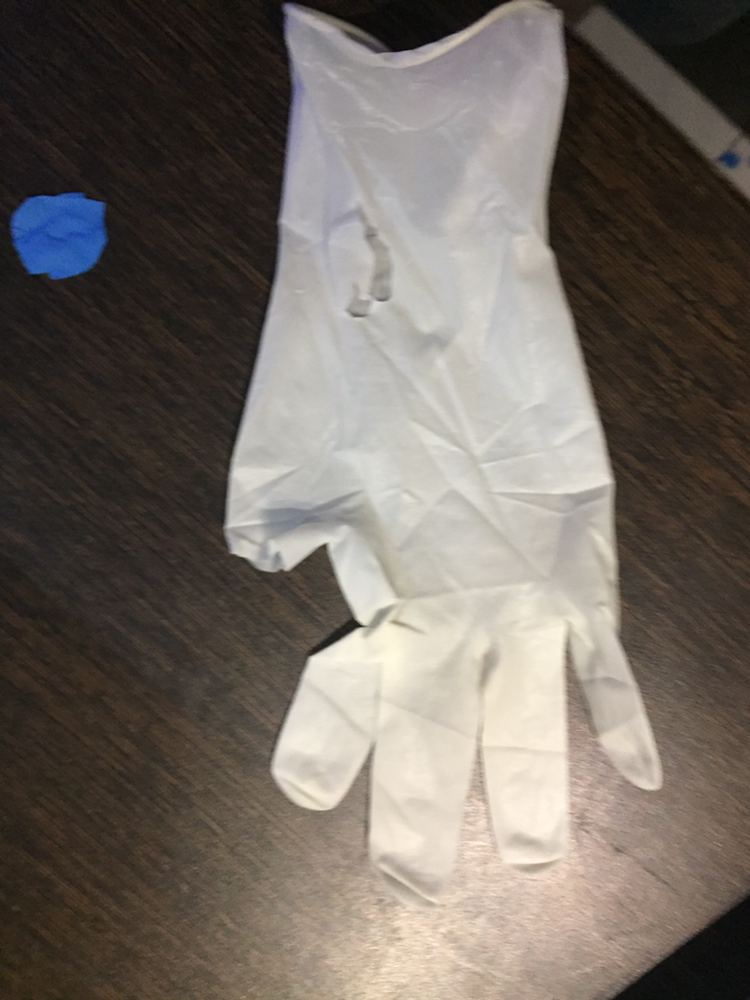defected: (191, 86, 688, 915)
